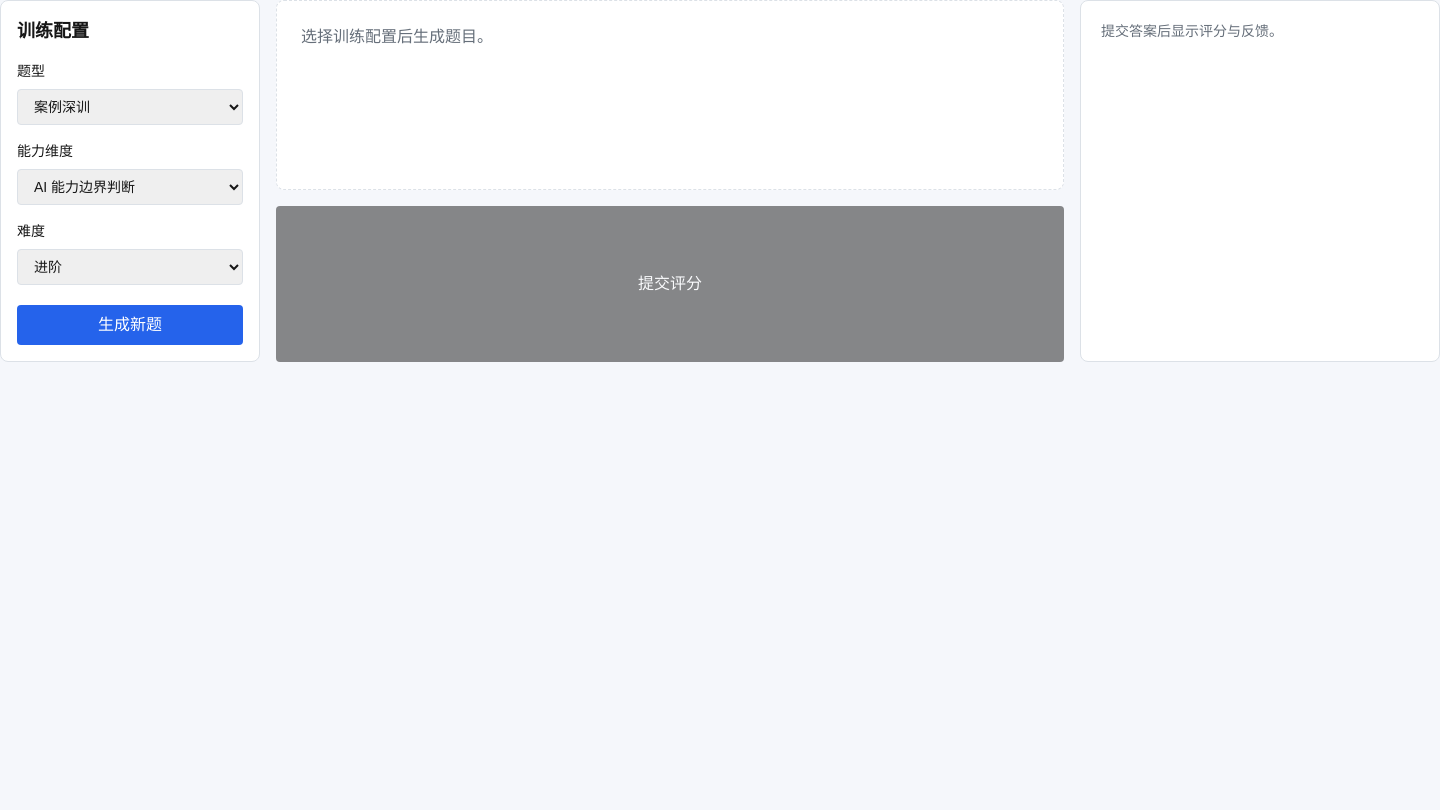
TrainingWorkbench › shows a specific error when reference answer generation fails
The image size is (1440, 810).
Click the button "生成新题" at (130, 325), box [17, 305, 243, 345]
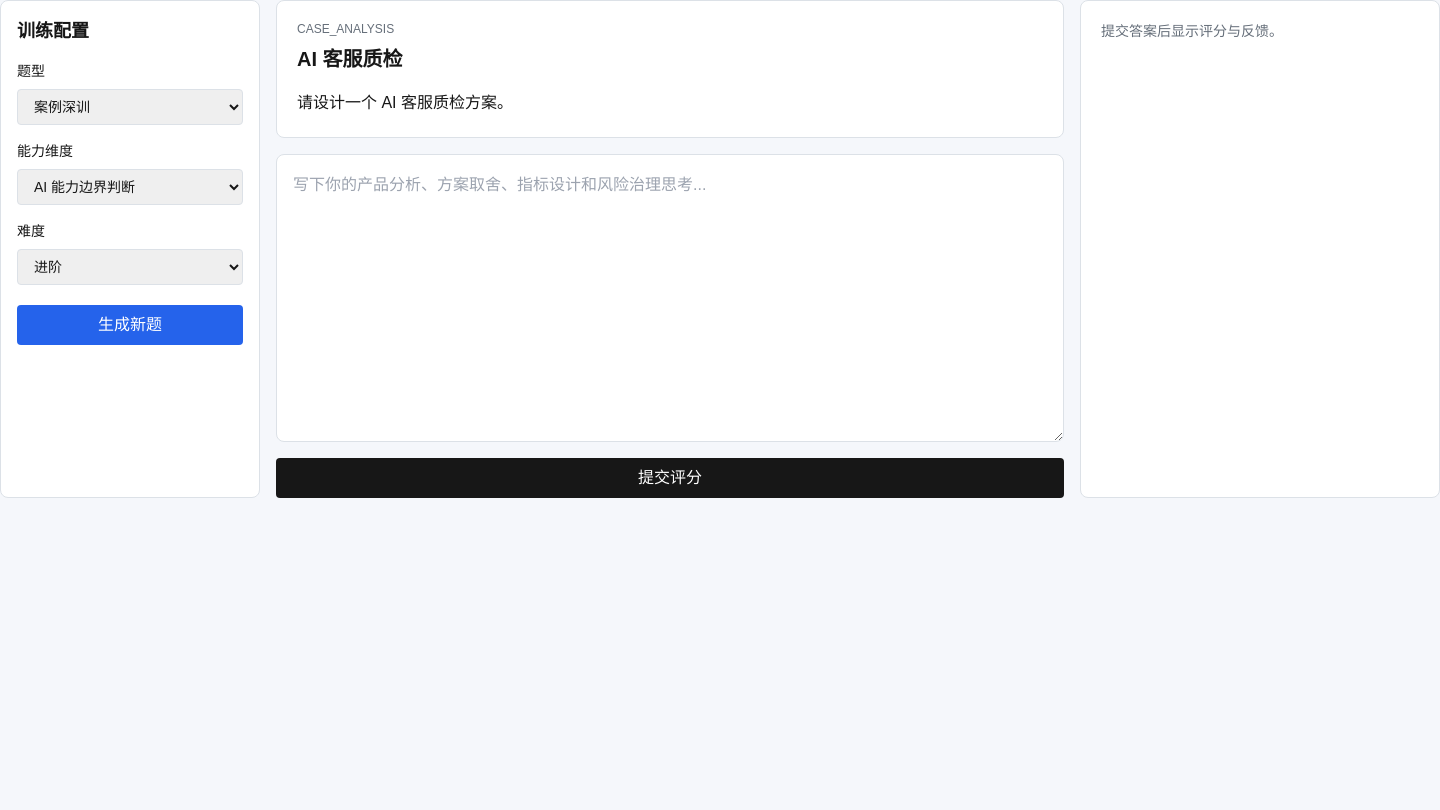
Expected: the text box with placeholder "写下你的产品分析、方案取舍、指标设计和风险治理思考..." is shown
Type "需要抽检、人工兜底和风险分层。" into the text box with placeholder "写下你的产品分析、方案取舍、指标设计和风险治理思考..." at (670, 298), box [276, 154, 1064, 442]
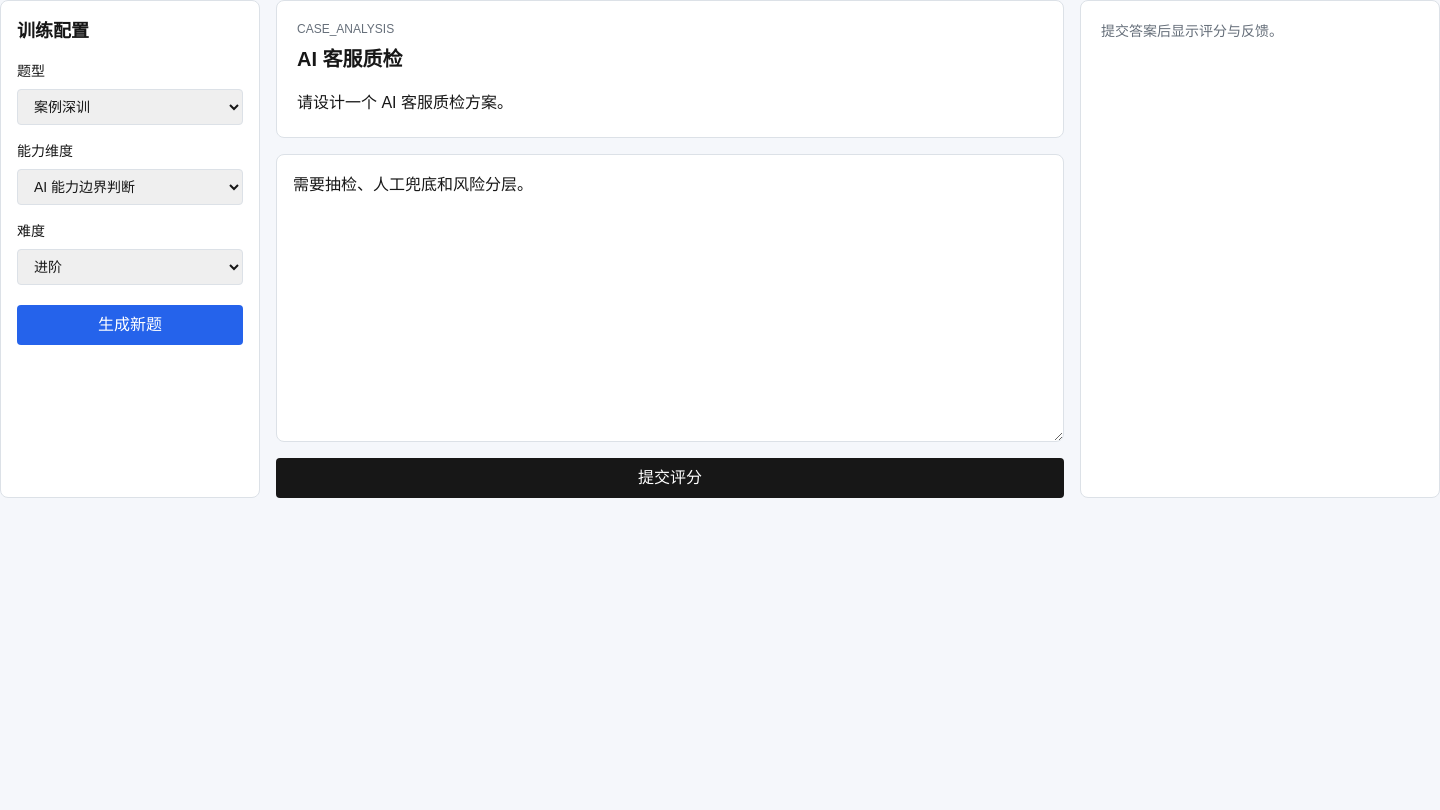
Click the button "提交评分" at (670, 478), box [276, 458, 1064, 498]
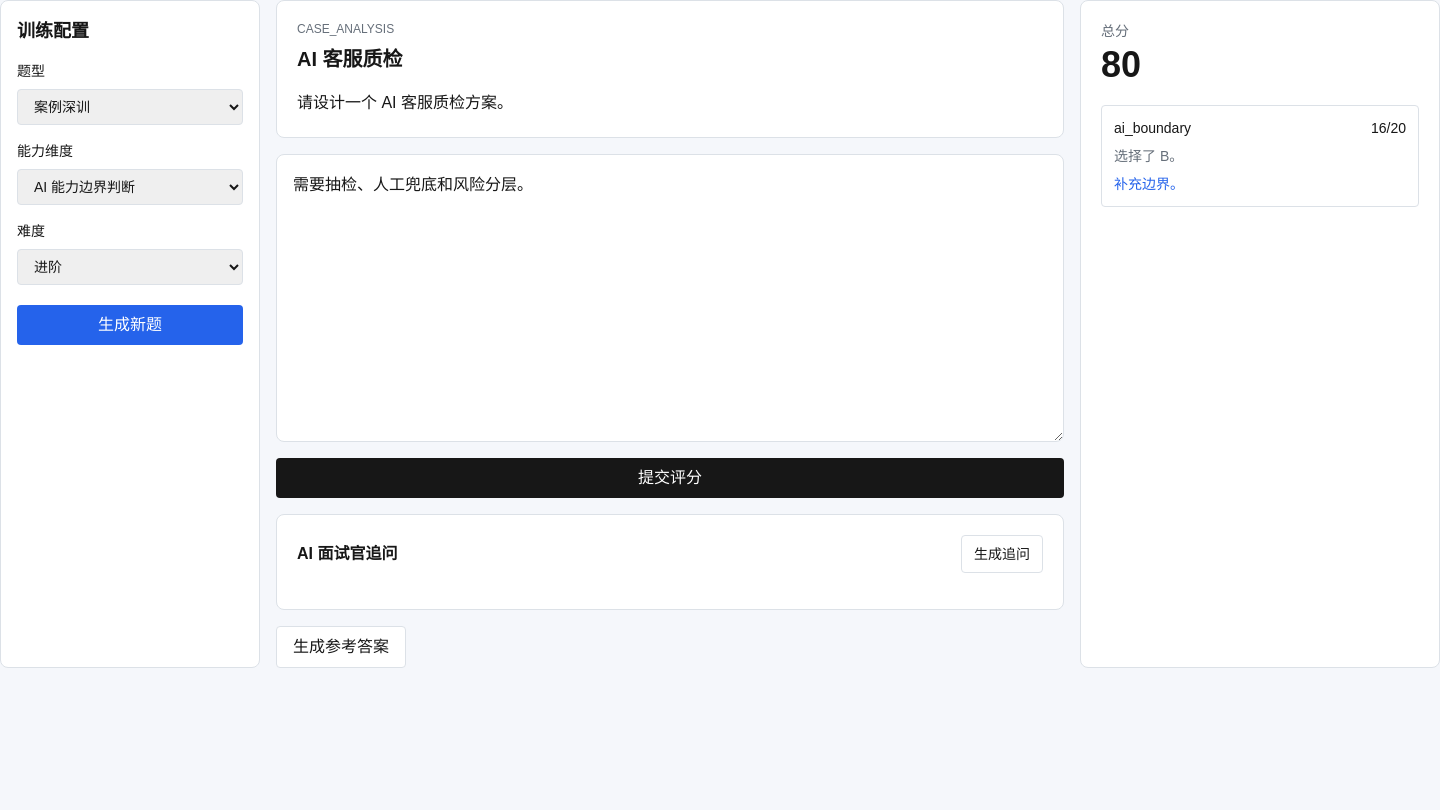
Expected: the button "生成参考答案" is shown
Click the button "生成参考答案" at (341, 647), box [276, 626, 406, 668]
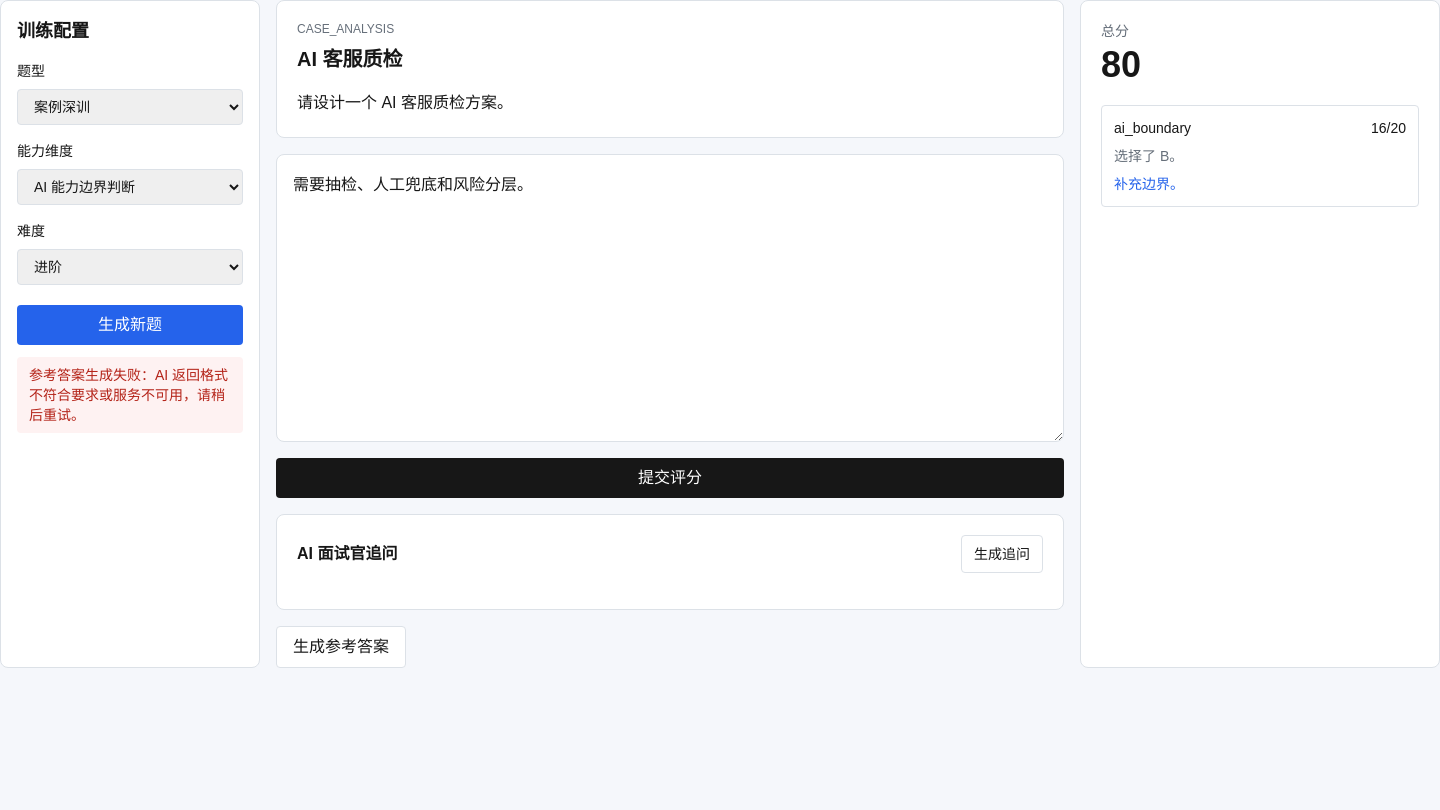
Expected: the text "参考答案生成失败：AI 返回格式不符合要求或服务不可用，请稍后重试。" is shown, [17, 357, 243, 433]
